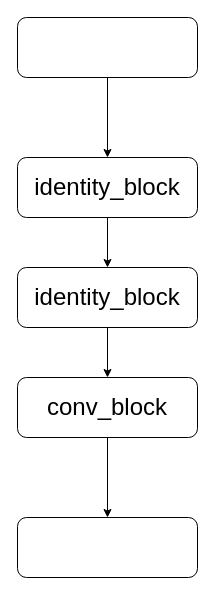
This 215x595 diagram has some shape labels left out. Each missing label, with the centre of its shape:
"Input" goes at (107,47).
"Output" goes at (107,547).
